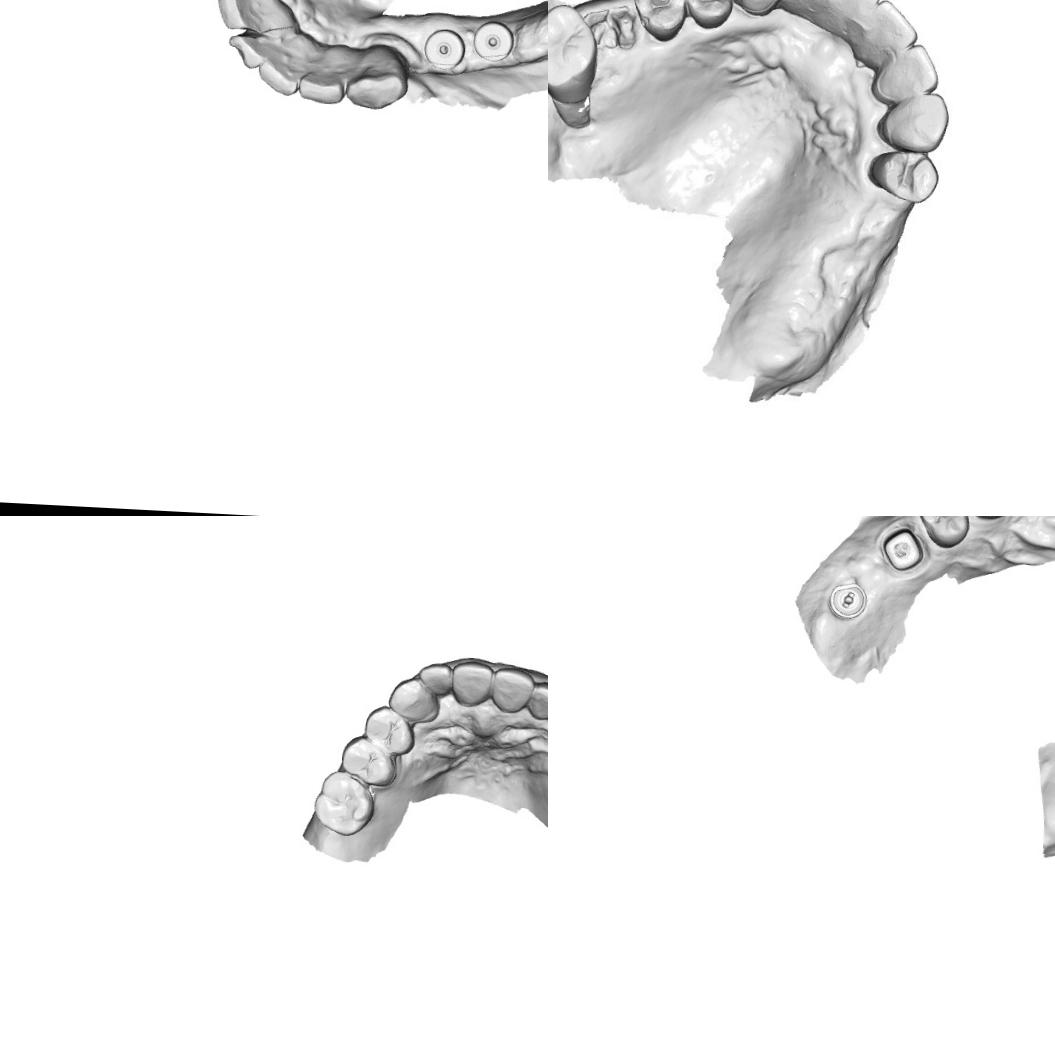abutment: (878, 524, 927, 574)
canine: (340, 41, 412, 113), (875, 90, 954, 154), (386, 674, 441, 724), (724, 0, 784, 20)
implant: (472, 20, 514, 60), (426, 28, 463, 66)
implant_minus: (826, 578, 868, 622)
incisor: (873, 47, 940, 108), (858, 0, 916, 60), (296, 50, 347, 108), (211, 0, 290, 36), (255, 46, 306, 98), (224, 26, 279, 72), (490, 665, 536, 714), (449, 658, 494, 708), (822, 0, 877, 27), (415, 660, 454, 698), (525, 679, 548, 721)
molar: (548, 0, 603, 103), (310, 767, 380, 837)
premolar: (866, 145, 947, 202), (337, 732, 398, 788), (361, 704, 417, 756), (631, 0, 691, 47), (913, 516, 973, 552), (682, 0, 735, 31)
